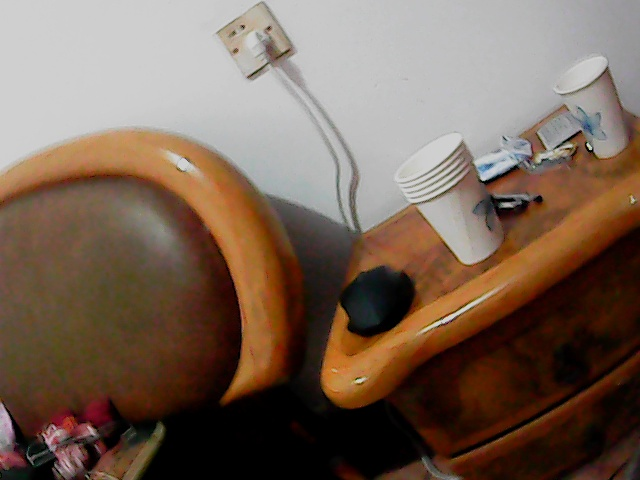cup: (394, 132, 518, 266)
mouse: (336, 262, 415, 336)
